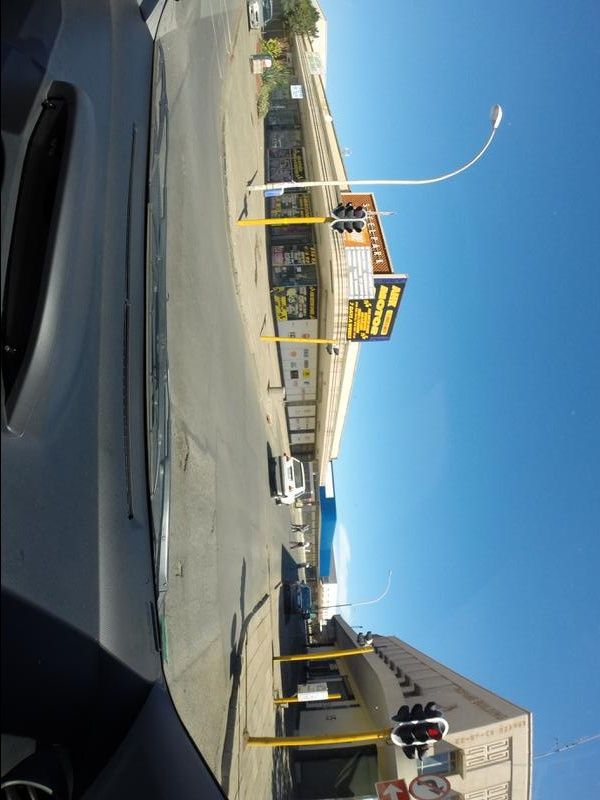pothole: (173, 416, 201, 478), (206, 508, 222, 537), (170, 559, 189, 581)
